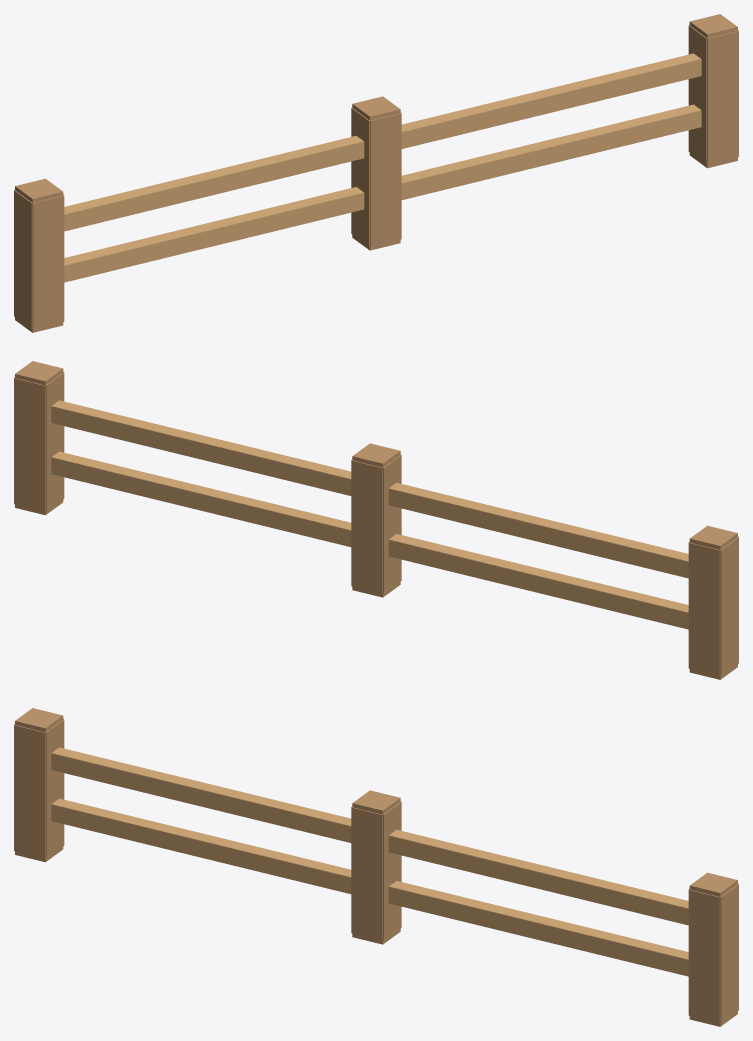
File: prop_fence_6m.glb
3 views of the same model, one above another, from view 1: azimuth 30°, elevation 25°; view 2: azimuth 150°, elevation 25°; view 3: azimuth 330°, elevation 25° (orthographic).
Parts seen in each view (by area): view 1: Mesh_Park_Fence; view 2: Mesh_Park_Fence; view 3: Mesh_Park_Fence.
Boxes of the visible parts, x1,y1,x2,y2 form: Mesh_Park_Fence: (14, 14, 738, 332); Mesh_Park_Fence: (14, 361, 738, 679); Mesh_Park_Fence: (14, 708, 738, 1026).
Size of what is drawn, in the model's own units: 6.08 by 1.1 by 0.28.
